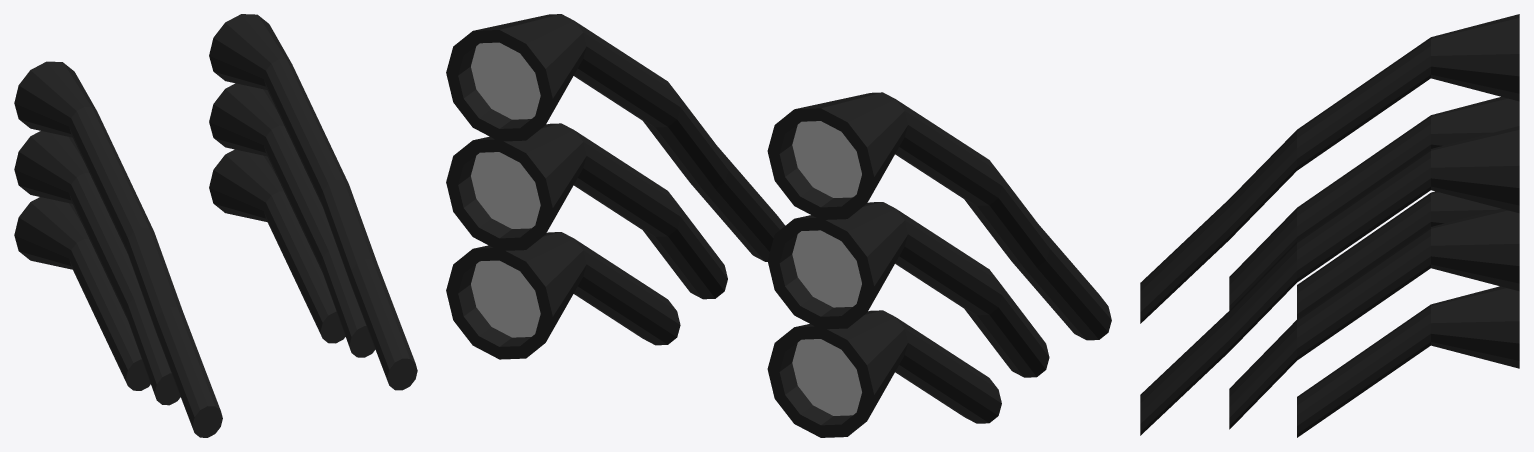
The model's file is exhaust5.glb.
3 renders of one model, left to right at view 1: azimuth 30°, elevation 25°; view 2: azimuth 150°, elevation 25°; view 3: azimuth 270°, elevation 25°, orthographic. The views are drawn at different scales.
Parts seen in each view (by area): view 1: exhaust5; view 2: exhaust5; view 3: exhaust5.
Boxes of the visible parts, left/top/right/bottom form: exhaust5: left=14, top=14, right=417, bottom=437; exhaust5: left=446, top=14, right=1111, bottom=437; exhaust5: left=1140, top=14, right=1519, bottom=437.
Size of the model in its own units: 1.14 by 1.09 by 1.23.
1 material, 1 textured.
